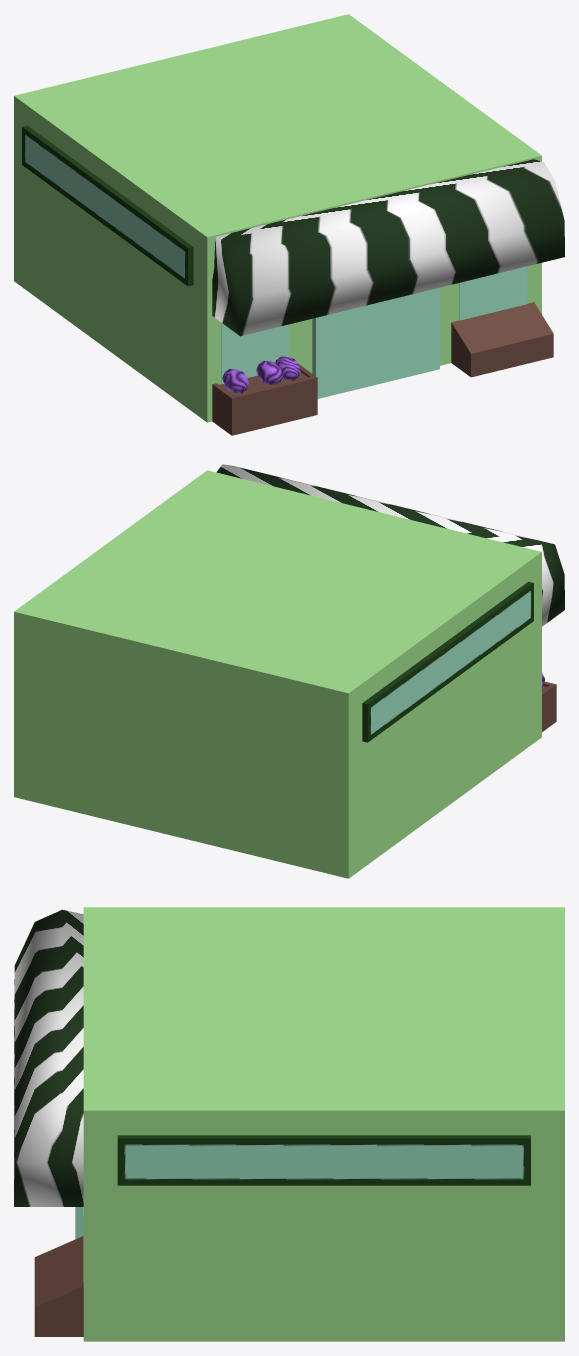
The model's file is Mercadinho.fbx.
3 renders of one model, top to bottom at view 1: azimuth 30°, elevation 25°; view 2: azimuth 150°, elevation 25°; view 3: azimuth 270°, elevation 25°, orthographic. The views are drawn at different scales.
Parts seen in each view (by area): view 1: Mercadinho; view 2: Mercadinho; view 3: Mercadinho.
Part boxes in pixels (box(x1,y1,x2,y2)): Mercadinho: box(14, 14, 564, 435); Mercadinho: box(14, 464, 564, 878); Mercadinho: box(14, 907, 564, 1341).
Size of the model in its own units: 850 by 440 by 944.
